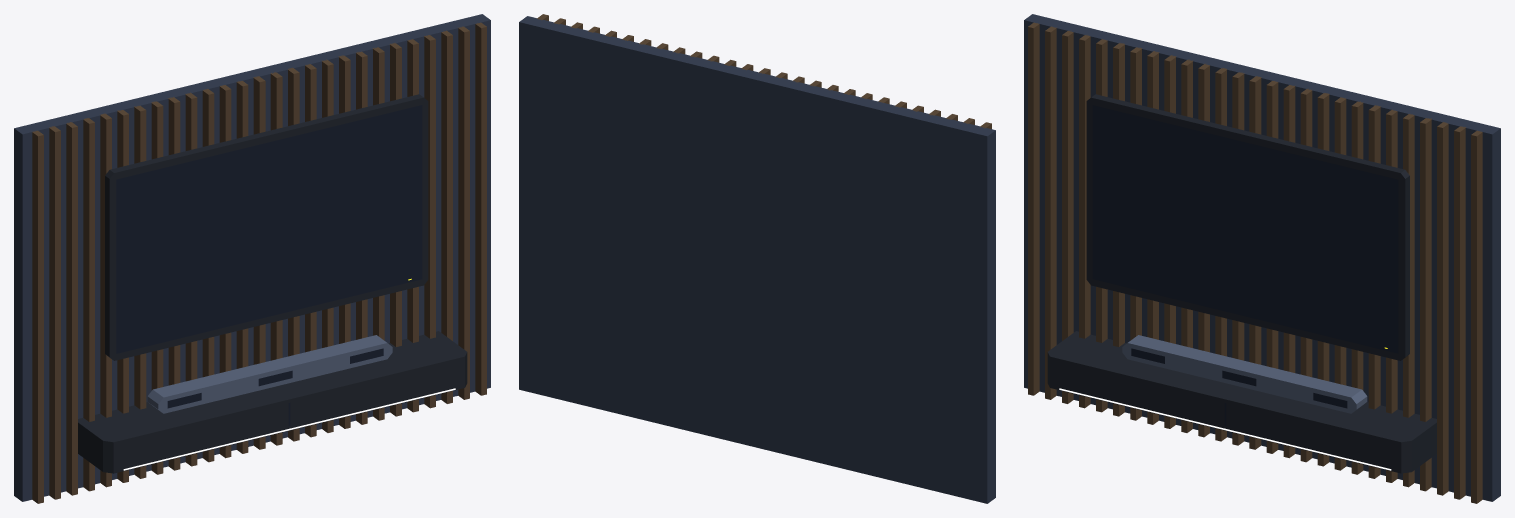
Rendered from res_tv_acoustic_wall.glb.
3 renders of one model, left to right at view 1: azimuth 30°, elevation 25°; view 2: azimuth 150°, elevation 25°; view 3: azimuth 330°, elevation 25°, orthographic.
Visible parts, largest first — view 1: walnut_acoustic_fin, dark_display_glass, acoustic_backing, floating_media_drawer, soundbar, media_underglow; view 2: acoustic_backing, walnut_acoustic_fin; view 3: walnut_acoustic_fin, dark_display_glass, acoustic_backing, floating_media_drawer, soundbar, media_underglow.
Part boxes in pixels (x1,y1,x2,y2): walnut_acoustic_fin: (32,22,486,503); dark_display_glass: (116,105,422,425); acoustic_backing: (14,14,490,501); floating_media_drawer: (78,94,467,473); soundbar: (147,335,392,413); media_underglow: (123,388,455,470); acoustic_backing: (519,16,995,503); walnut_acoustic_fin: (537,14,991,128); walnut_acoustic_fin: (1028,22,1482,503); dark_display_glass: (1092,105,1398,425); acoustic_backing: (1024,14,1500,501); floating_media_drawer: (1047,94,1436,473); soundbar: (1122,335,1367,413); media_underglow: (1059,388,1391,470).
Size of the model in its own units: 3.6 by 2.7 by 0.55.
